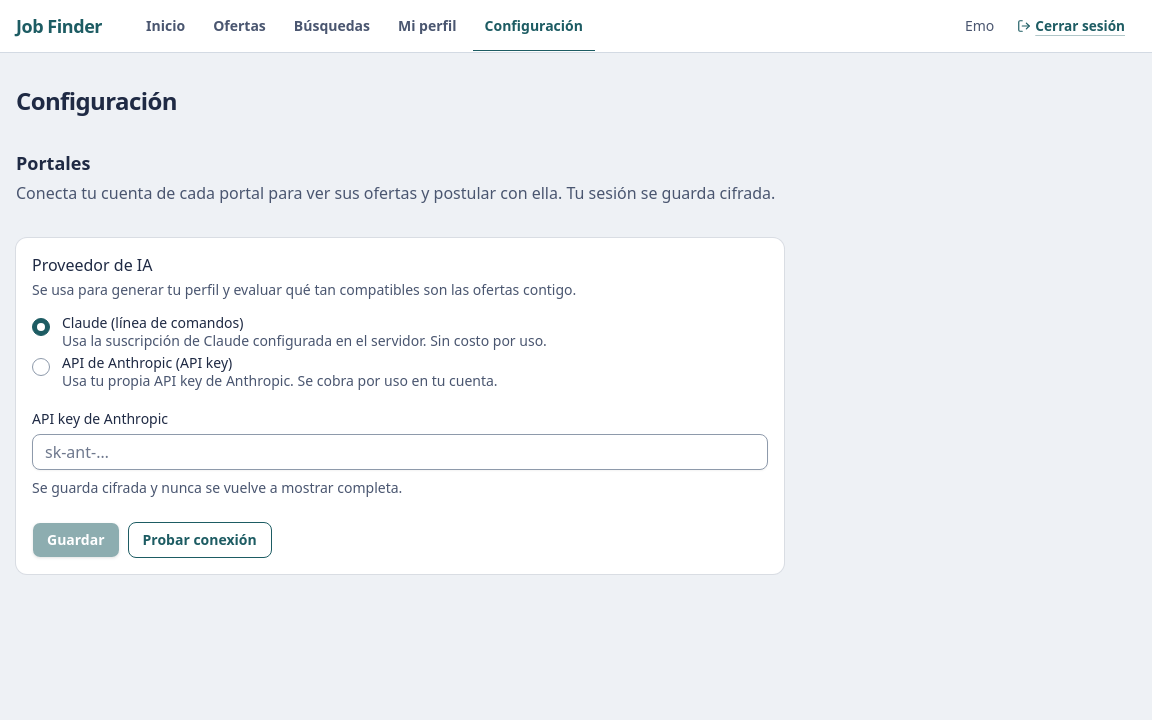
it: Configuración de IA › prueba la conexión y muestra el modelo
Click the button "Probar conexión" at (200, 540), box [128, 522, 272, 558]
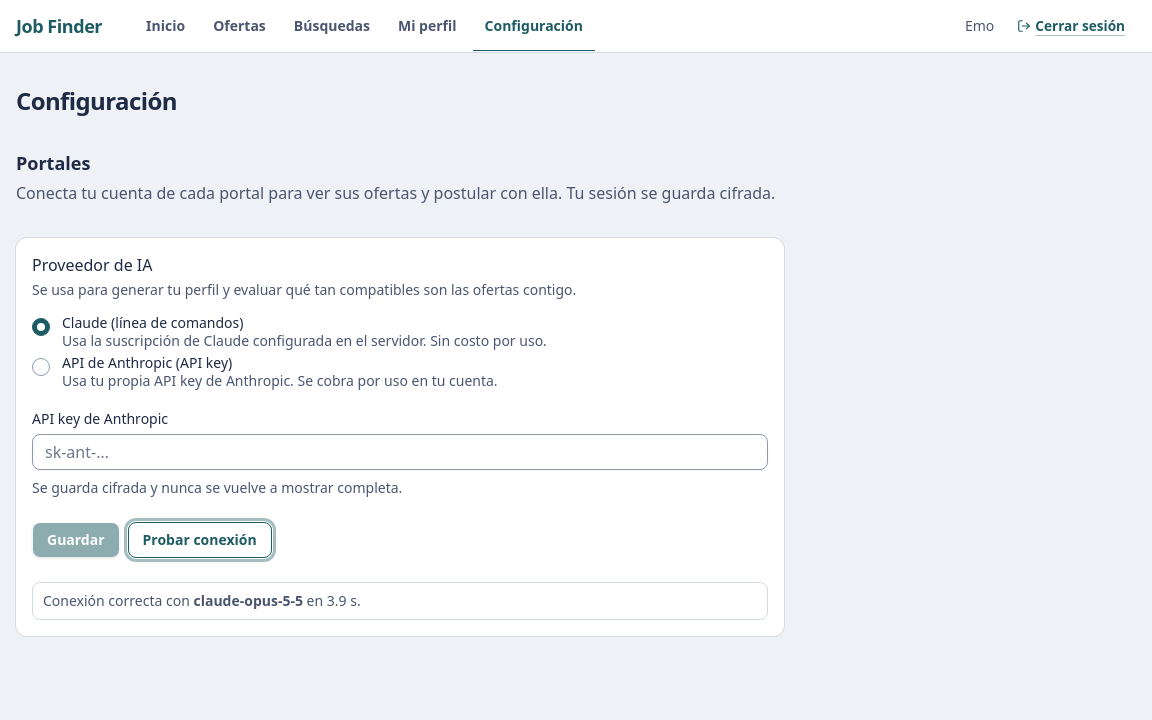
Check: the text "Conexión correcta con claude-opus-5-5 en 3.9 s." is shown, box [43, 591, 361, 610]
